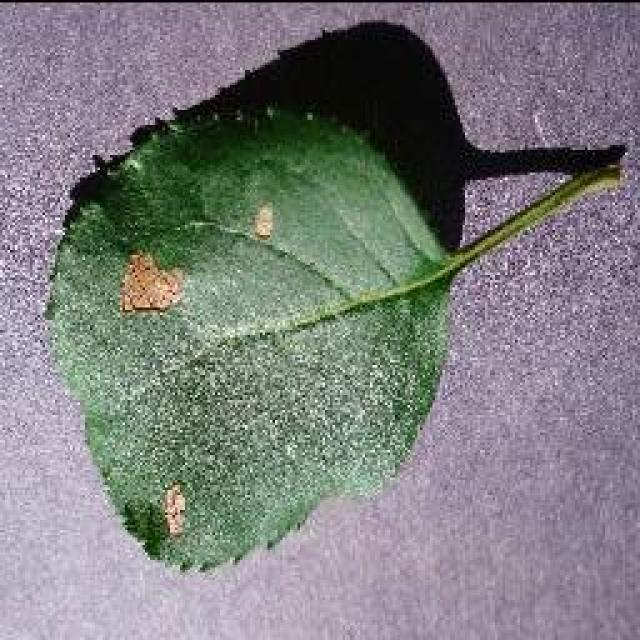apple scab disease: (40, 17, 628, 575)
